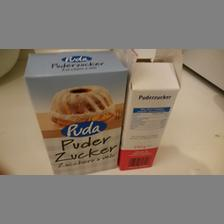Zucker: (23, 50, 127, 174), (116, 49, 180, 169)
